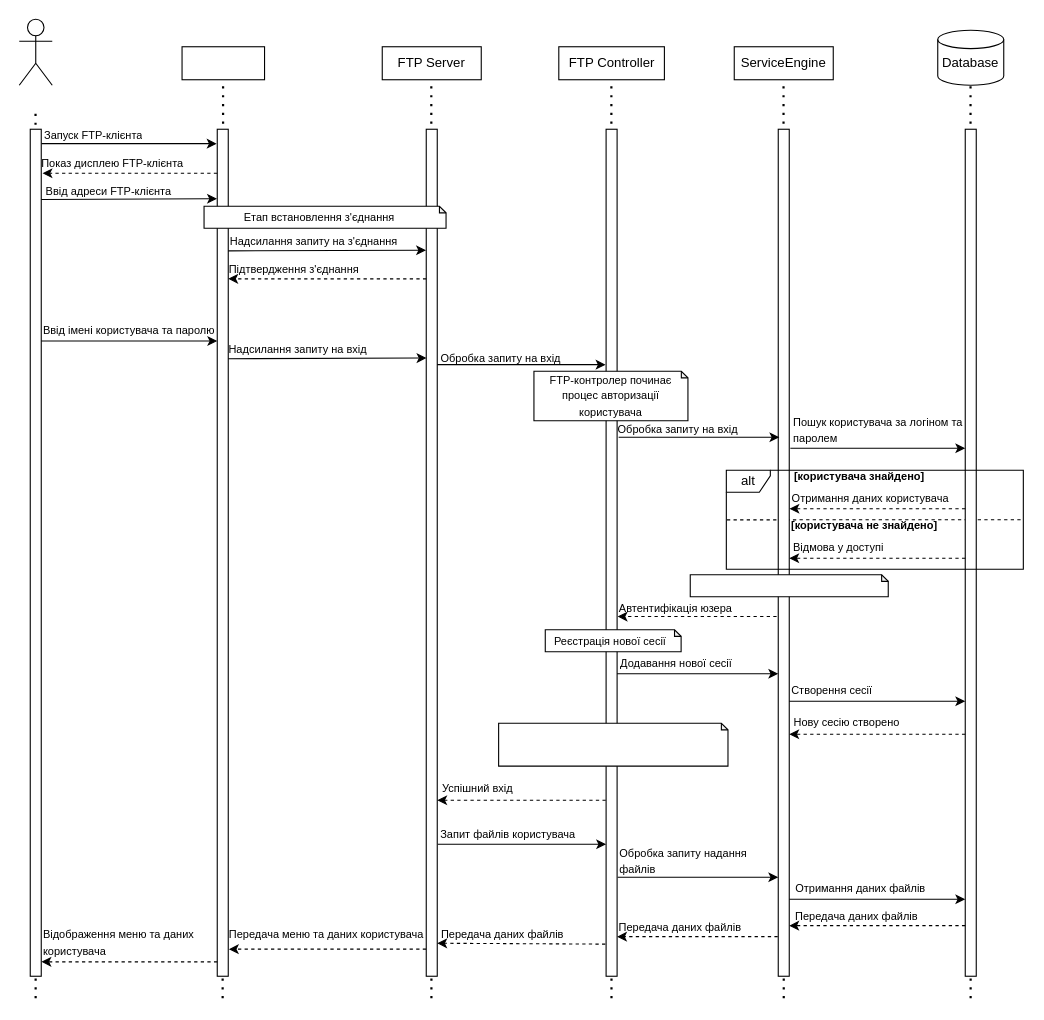
Image size: 1044x1020. Some labels were removed from this diagram. Each missing label, with the box of its shape:
FTP Client: (181, 46, 265, 80)
FTP-контролер обробляє запит надання файлів користувача: (498, 722, 728, 766)
User: (18, 18, 52, 85)
Успішна або невдала автентифікація: (689, 574, 888, 597)
